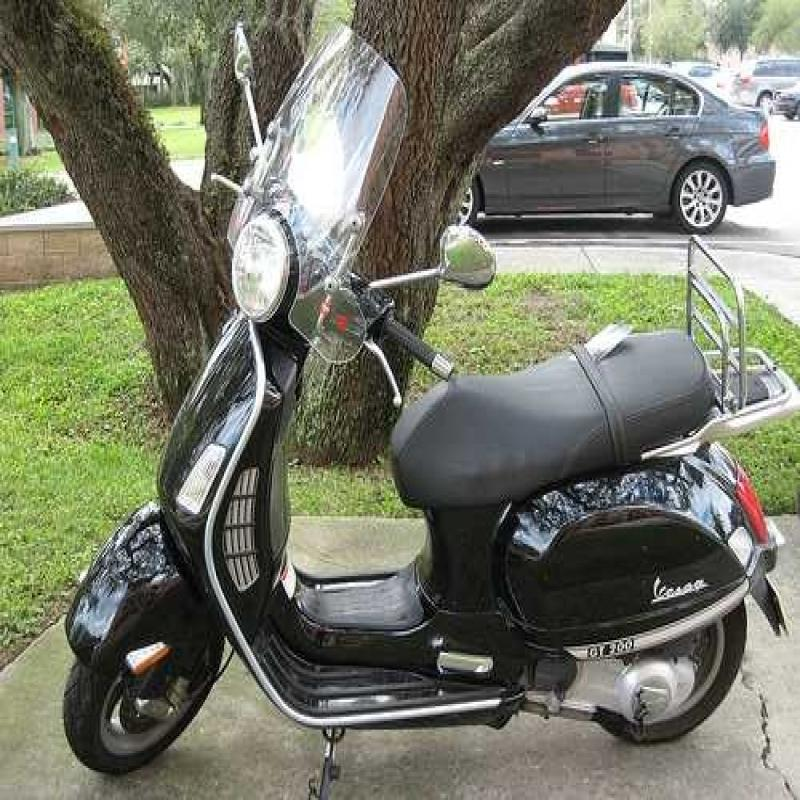bike: (49, 42, 800, 763)
